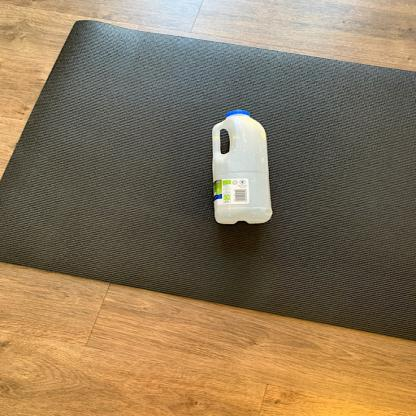trash: (210, 108, 278, 228)
